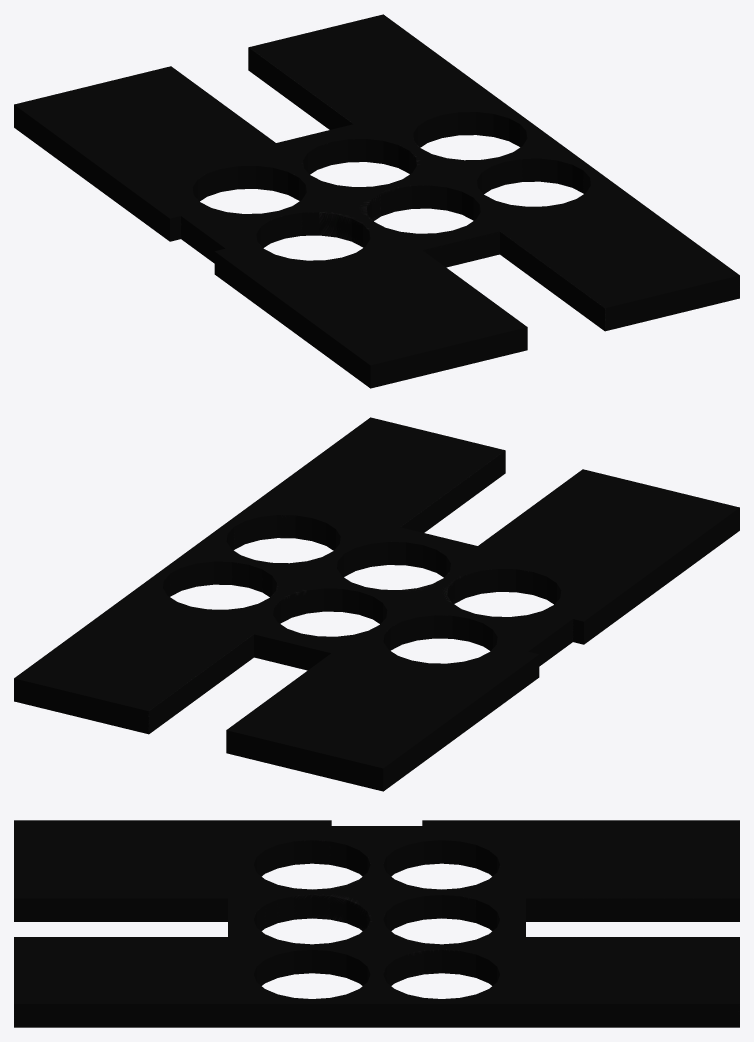
The model's file is LeguLeteron_Braille_Fixing_Frame.fbx.
The picture shows the model from 3 angles, top to bottom: view 1: azimuth 30°, elevation 25°; view 2: azimuth 150°, elevation 25°; view 3: azimuth 270°, elevation 25°; orthographic projection.
Parts seen in each view (by area): view 1: node_id816; view 2: node_id816; view 3: node_id816.
Boxes of the visible parts, box(x1,y1,x2,y2) form: node_id816: box(14, 14, 739, 388); node_id816: box(14, 417, 739, 791); node_id816: box(14, 820, 739, 1027).
Size of the model in its own units: 0.4711 by 0.0281 by 0.7876.
Materials: 1 (1 with a texture image).
